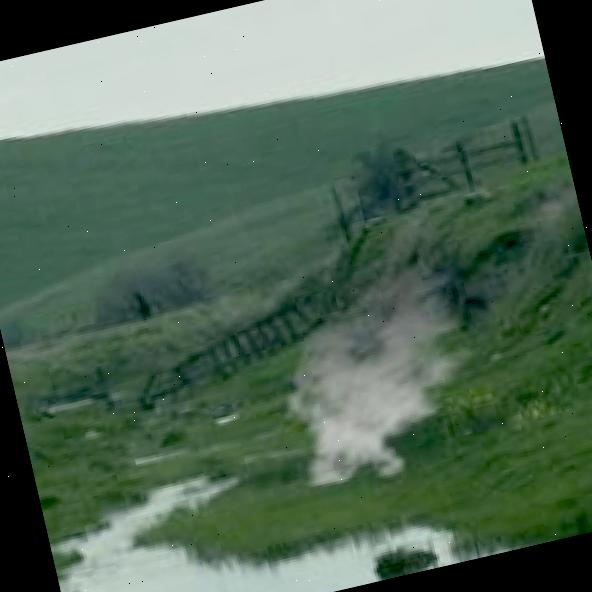smoke: (252, 250, 512, 499)
